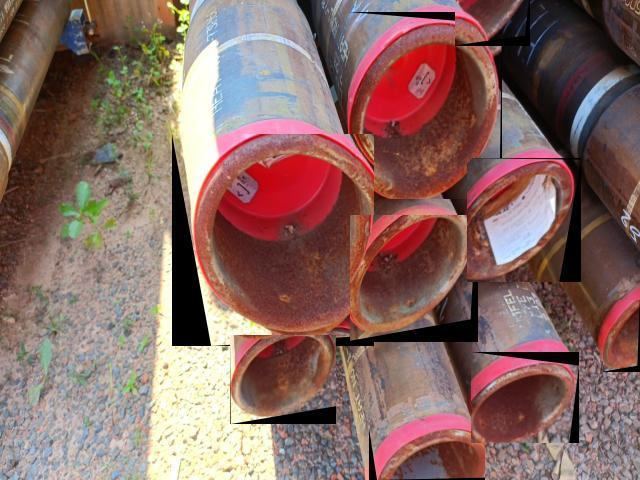pipe: (172, 134, 374, 346), (348, 12, 502, 199), (350, 215, 478, 342), (468, 158, 582, 282), (472, 352, 580, 443), (230, 335, 336, 424), (370, 428, 486, 480), (455, 0, 530, 46), (603, 300, 640, 372)
